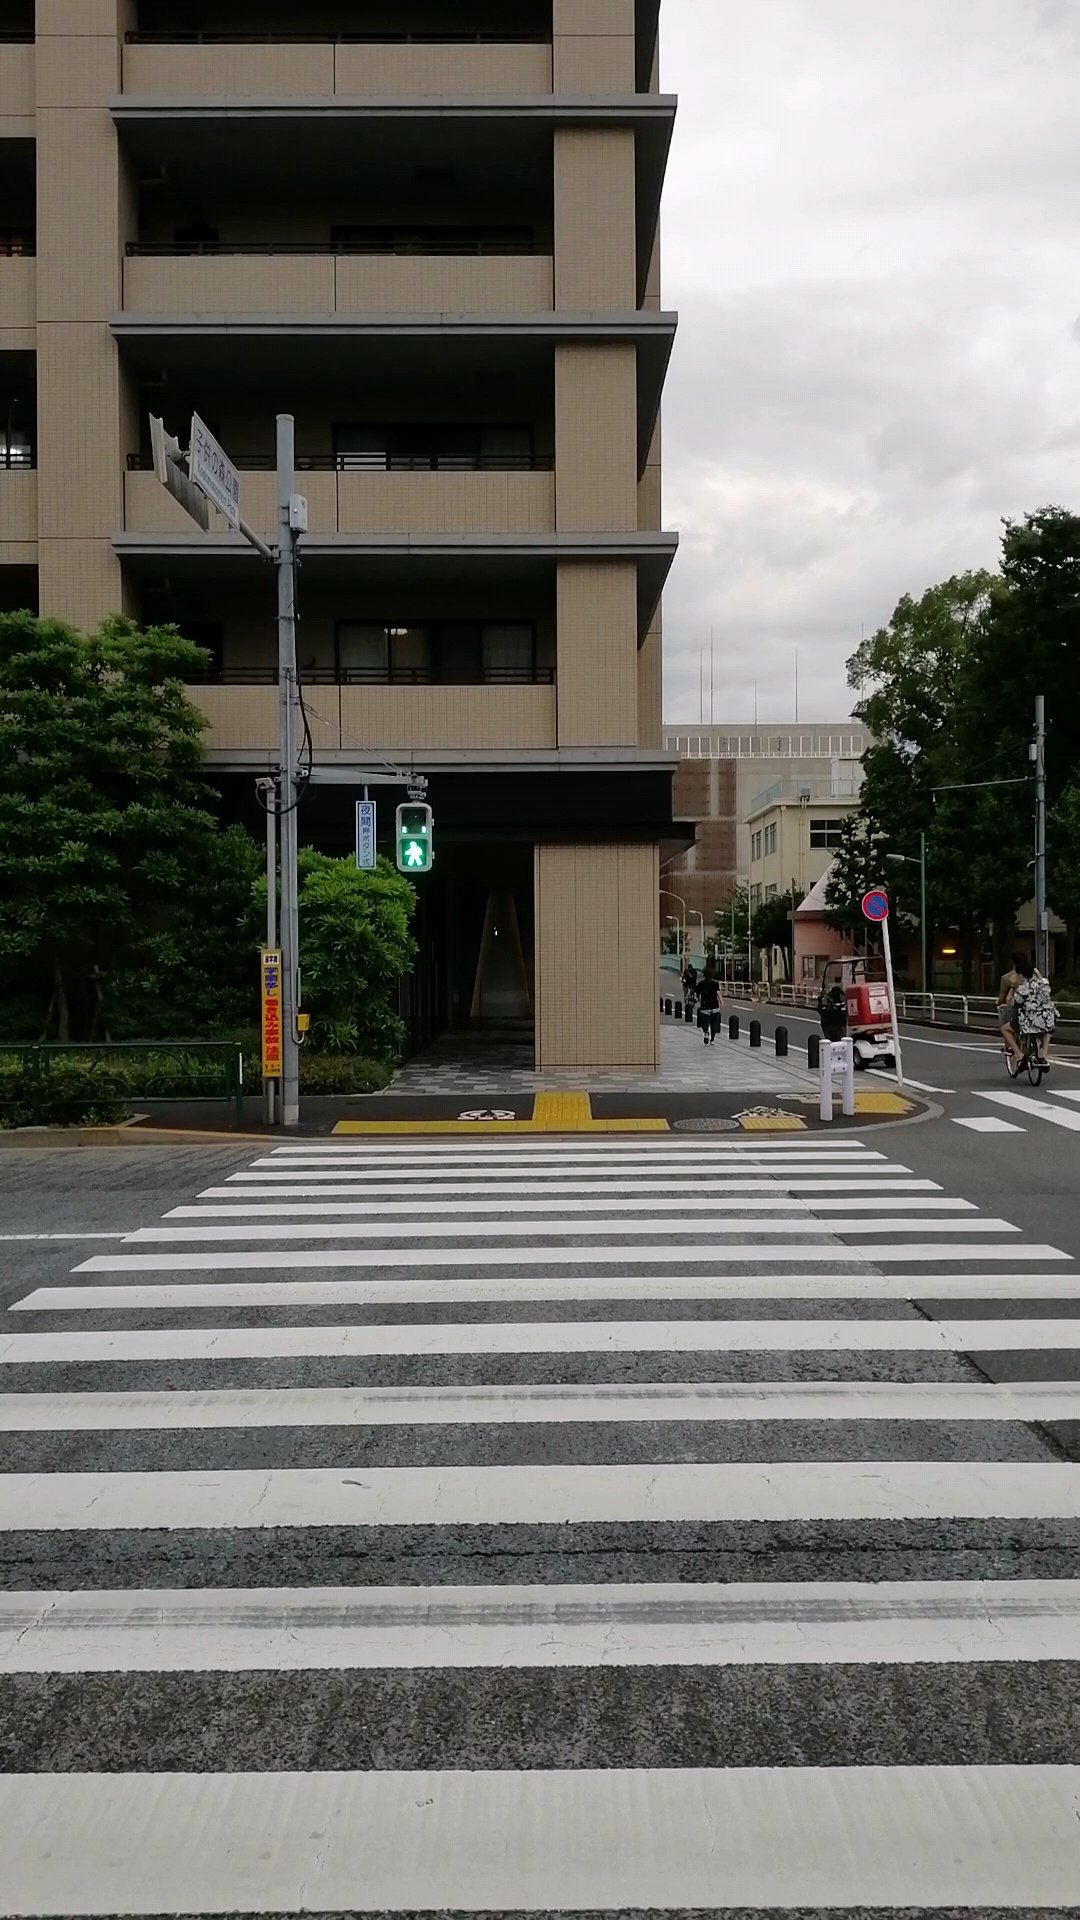green: (393, 800, 433, 872)
